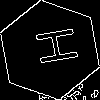H: (25, 25, 79, 69)
